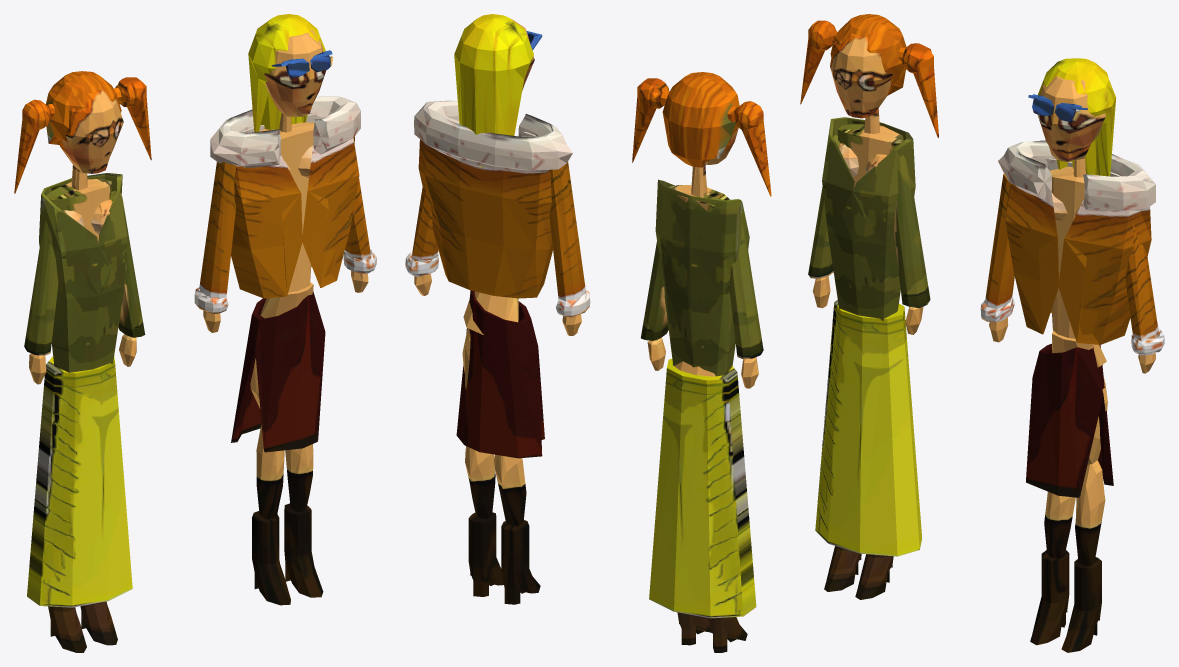
The model's file is WearZim.glb.
3 views of the same model, side by side, from view 1: azimuth 30°, elevation 25°; view 2: azimuth 150°, elevation 25°; view 3: azimuth 330°, elevation 25° (orthographic).
Parts seen in each view (by area): view 1: WearZim; view 2: WearZim; view 3: WearZim.
Boxes of the visible parts, left/top/right/bottom form: WearZim: left=14, top=14, right=376, bottom=652; WearZim: left=405, top=14, right=771, bottom=652; WearZim: left=800, top=14, right=1164, bottom=652.
Size of the model in its own units: 189 by 285 by 39.72.
Materials: 1 (1 with a texture image).
